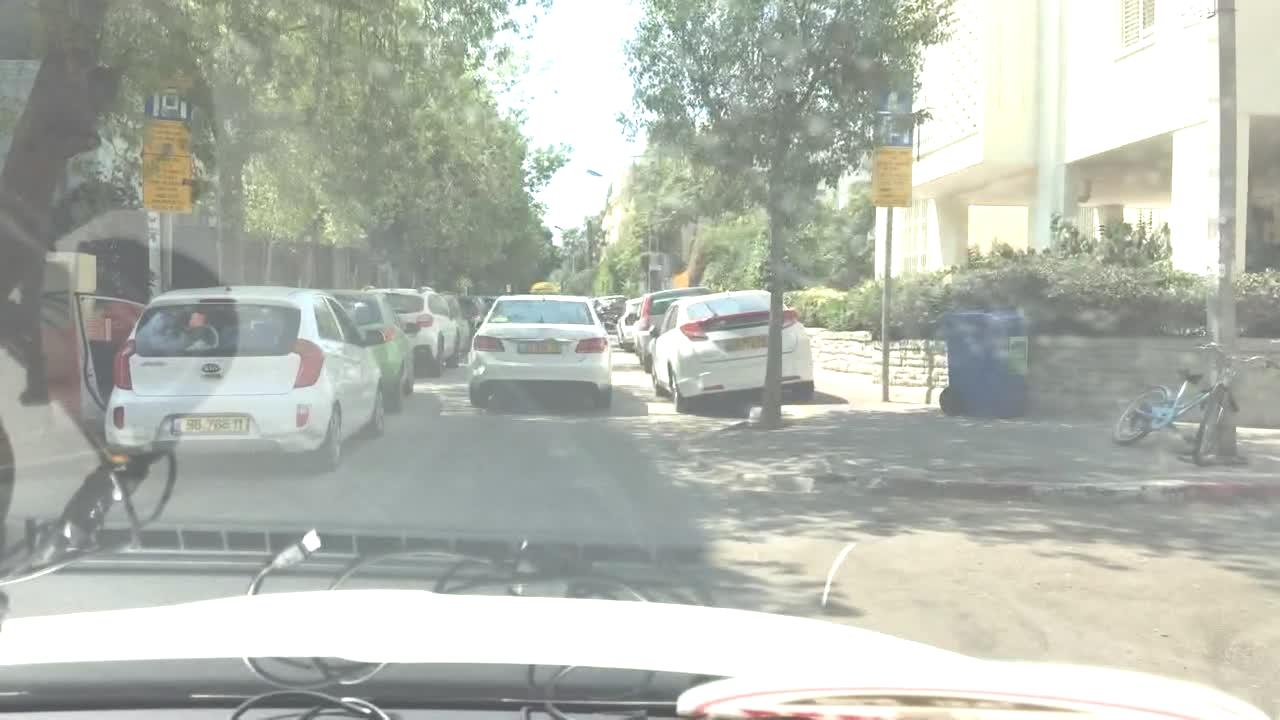kia: (197, 360, 226, 378)
